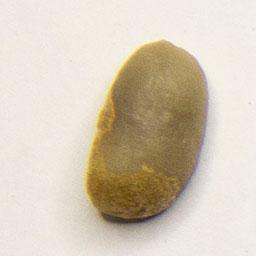longberry: (81, 35, 214, 225)
